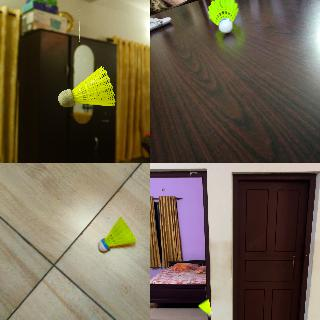shuttlecock: (58, 66, 114, 106), (98, 216, 134, 256), (207, 0, 239, 34), (198, 298, 212, 316)
